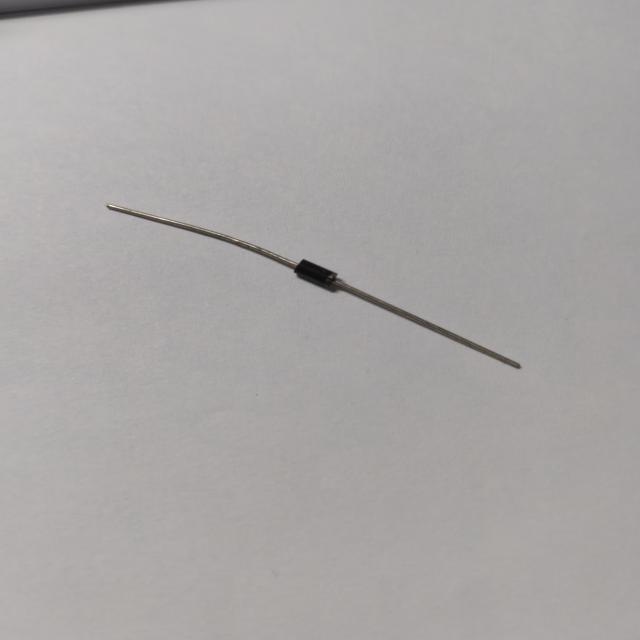resistor: (100, 197, 538, 377)
